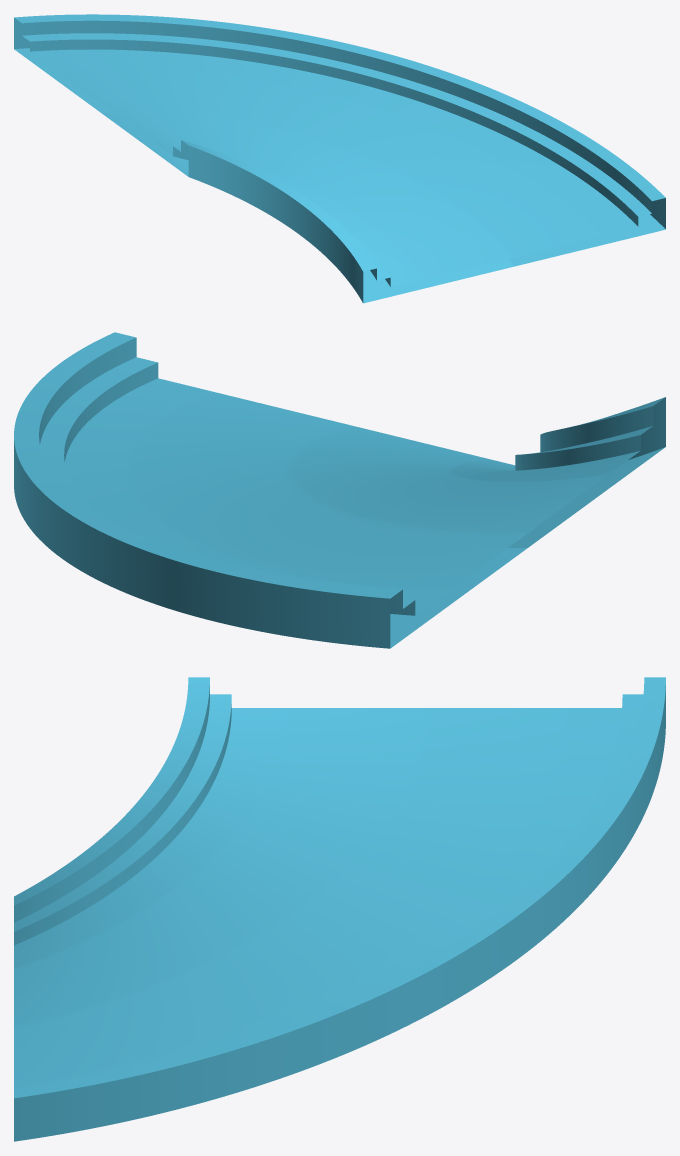
The model's file is pista_rampa_esquerda.fbx.
3 renders of one model, top to bottom at view 1: azimuth 30°, elevation 25°; view 2: azimuth 150°, elevation 25°; view 3: azimuth 270°, elevation 25°, orthographic. The views are drawn at different scales.
Parts seen in each view (by area): view 1: rampa_esquerda; view 2: rampa_esquerda; view 3: rampa_esquerda.
Part boxes in pixels (box(x1,y1,x2,y2)): rampa_esquerda: box(14, 14, 665, 303); rampa_esquerda: box(14, 332, 665, 648); rampa_esquerda: box(14, 677, 665, 1141).
Bounding box in the file's own units: 9945 × 3180 × 9945.
